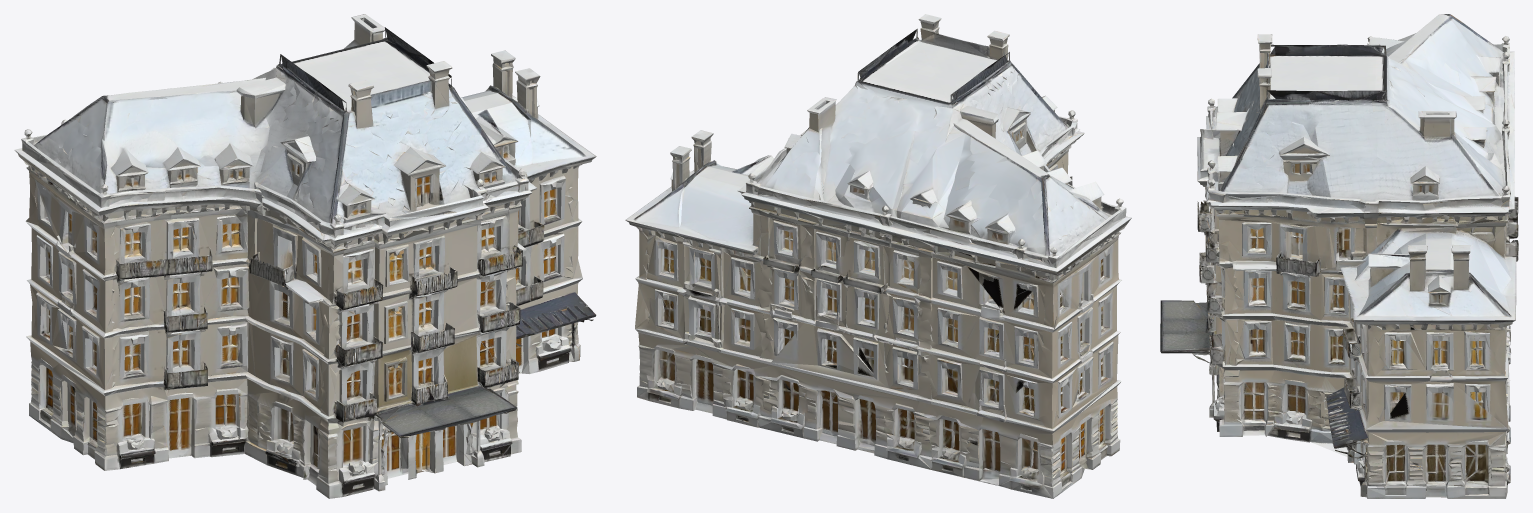
Rendered from hotel_grand.glb.
The picture shows the model from 3 angles, left to right: view 1: azimuth 30°, elevation 25°; view 2: azimuth 150°, elevation 25°; view 3: azimuth 270°, elevation 25°; orthographic projection. The views are drawn at different scales.
Bounding box in the file's own units: 1.9 × 1.41 × 1.34.
Materials: 1 (1 with a texture image).
